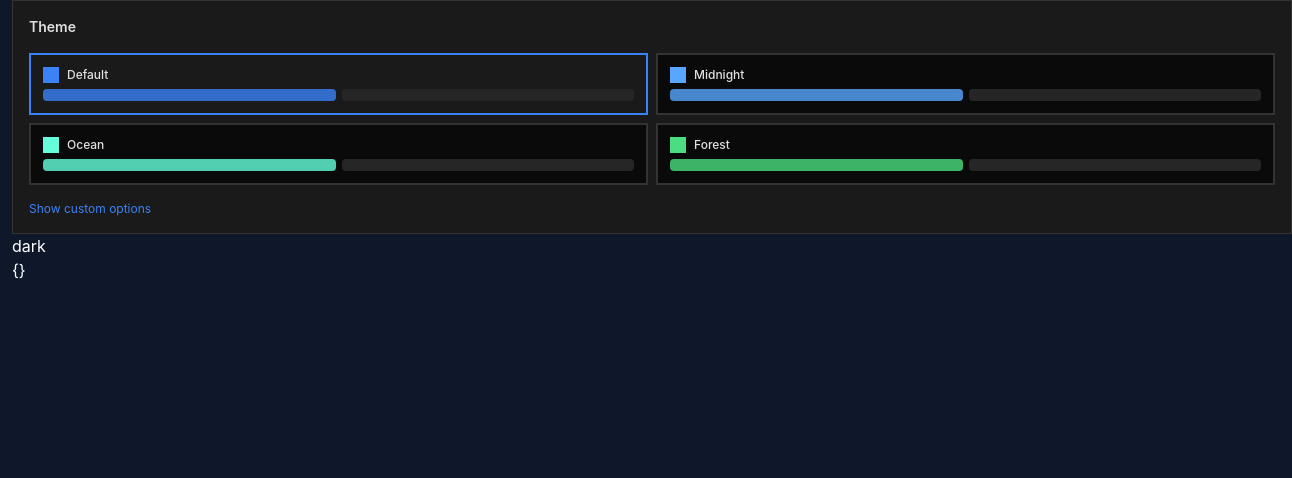
Test: ThemeSwitcher › border style toggle works
Click the button with test id "toggle-custom".
click(45, 208)  # box [29, 201, 1275, 217]
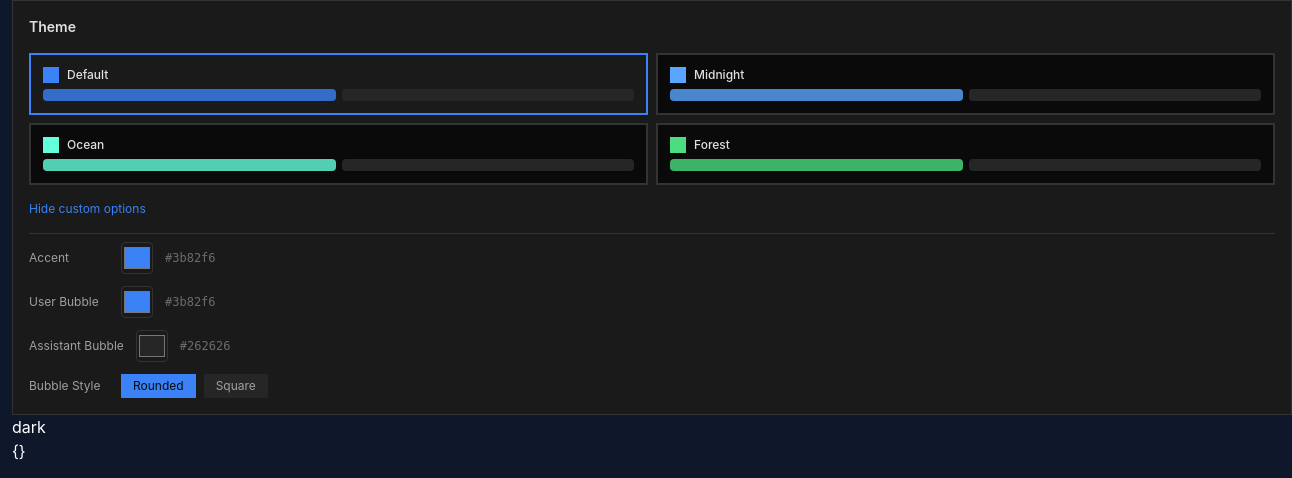
Click the button with test id "border-style-square".
click(236, 386)  # box [204, 374, 268, 398]
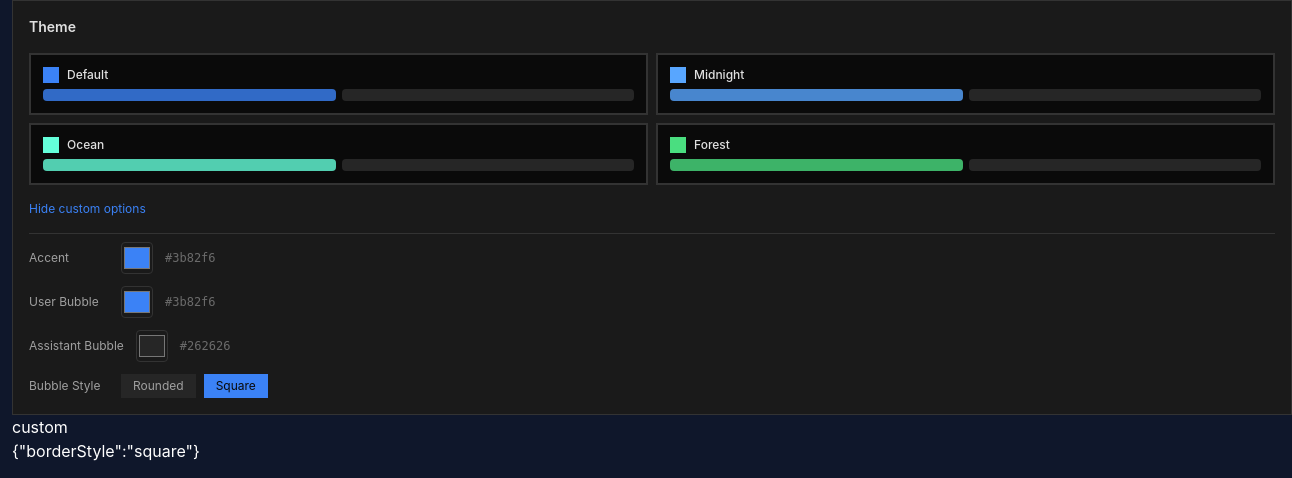
Check: the text with test id "customizations-value" shows "square", box [12, 441, 200, 461]
Click the button with test id "border-style-rounded".
click(158, 386)  # box [121, 374, 196, 398]
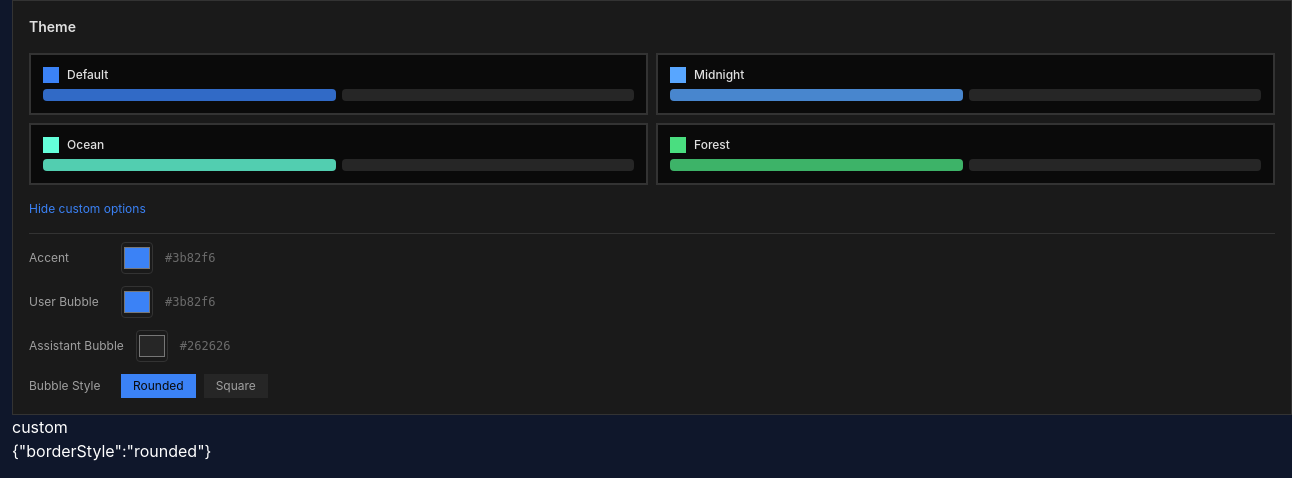
Check: the element with test id "customizations-value" no longer shows "square"
